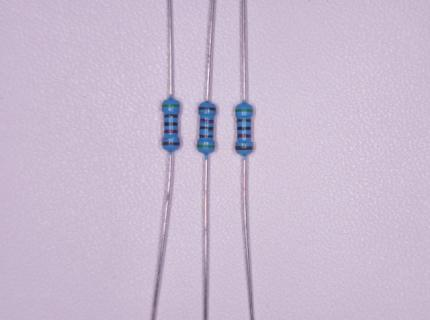Black band: (200, 126, 213, 130), (237, 127, 252, 130), (164, 123, 178, 126)
Brown band: (163, 142, 179, 146), (199, 107, 216, 110), (236, 147, 252, 150), (165, 115, 178, 118), (200, 135, 213, 138), (238, 119, 251, 122)
Green band: (198, 145, 214, 148), (236, 109, 252, 112), (162, 105, 179, 107)
Red band: (201, 119, 214, 123), (238, 134, 251, 138), (164, 130, 178, 133)
